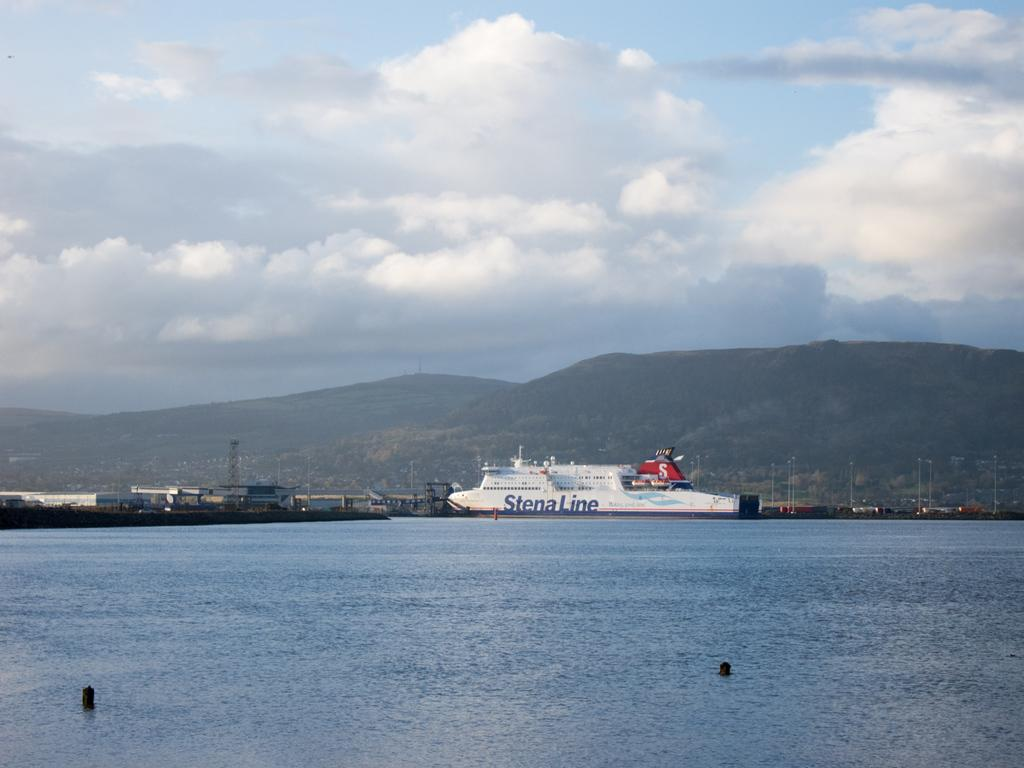PassengerShip: (446, 438, 764, 522)
